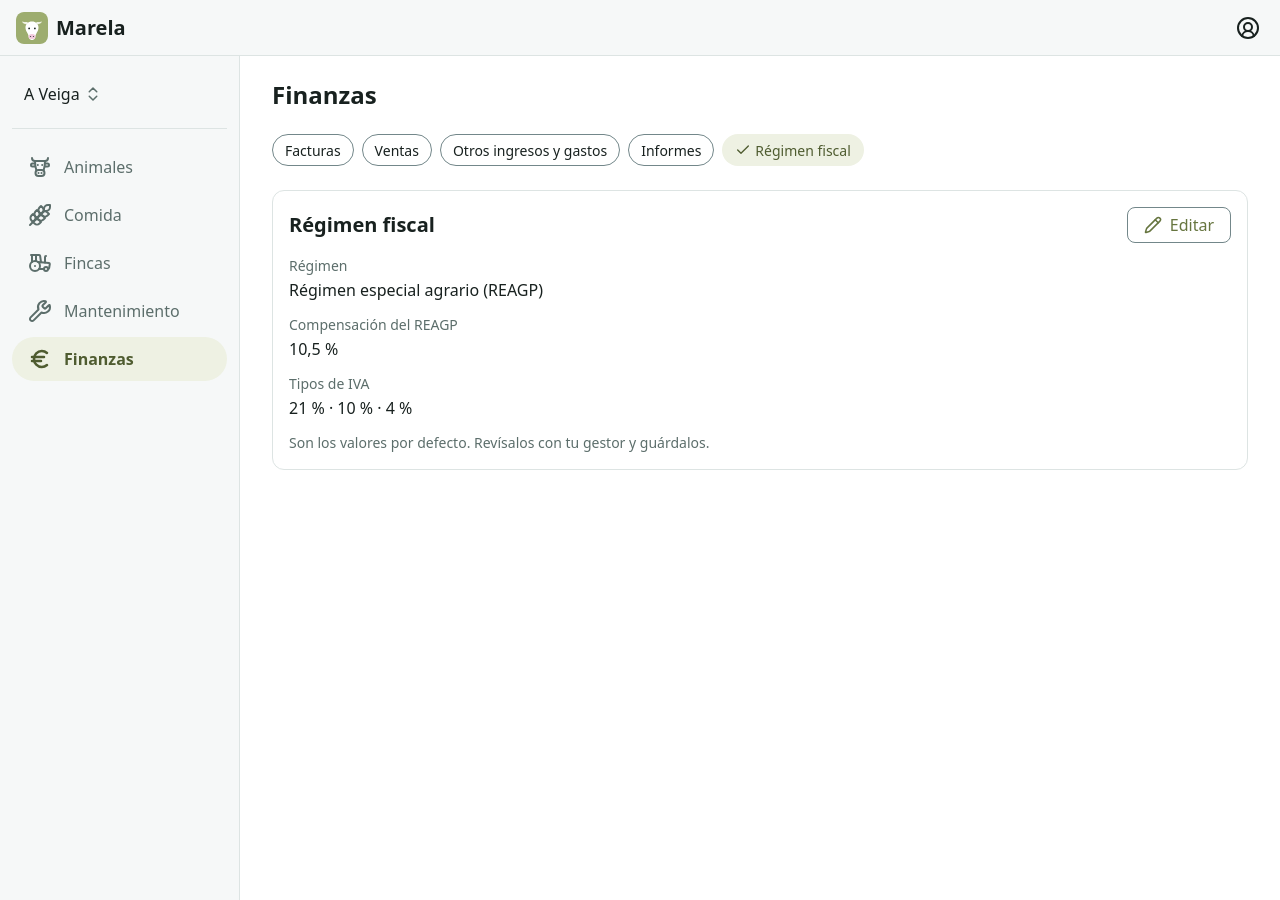
Test case: régimen fiscal (GH-34) › el administrador cambia el régimen, la compensación y los tipos de IVA
The width and height of the screenshot is (1280, 900).
Click the button "Editar": (1179, 225) [1127,207,1231,243]
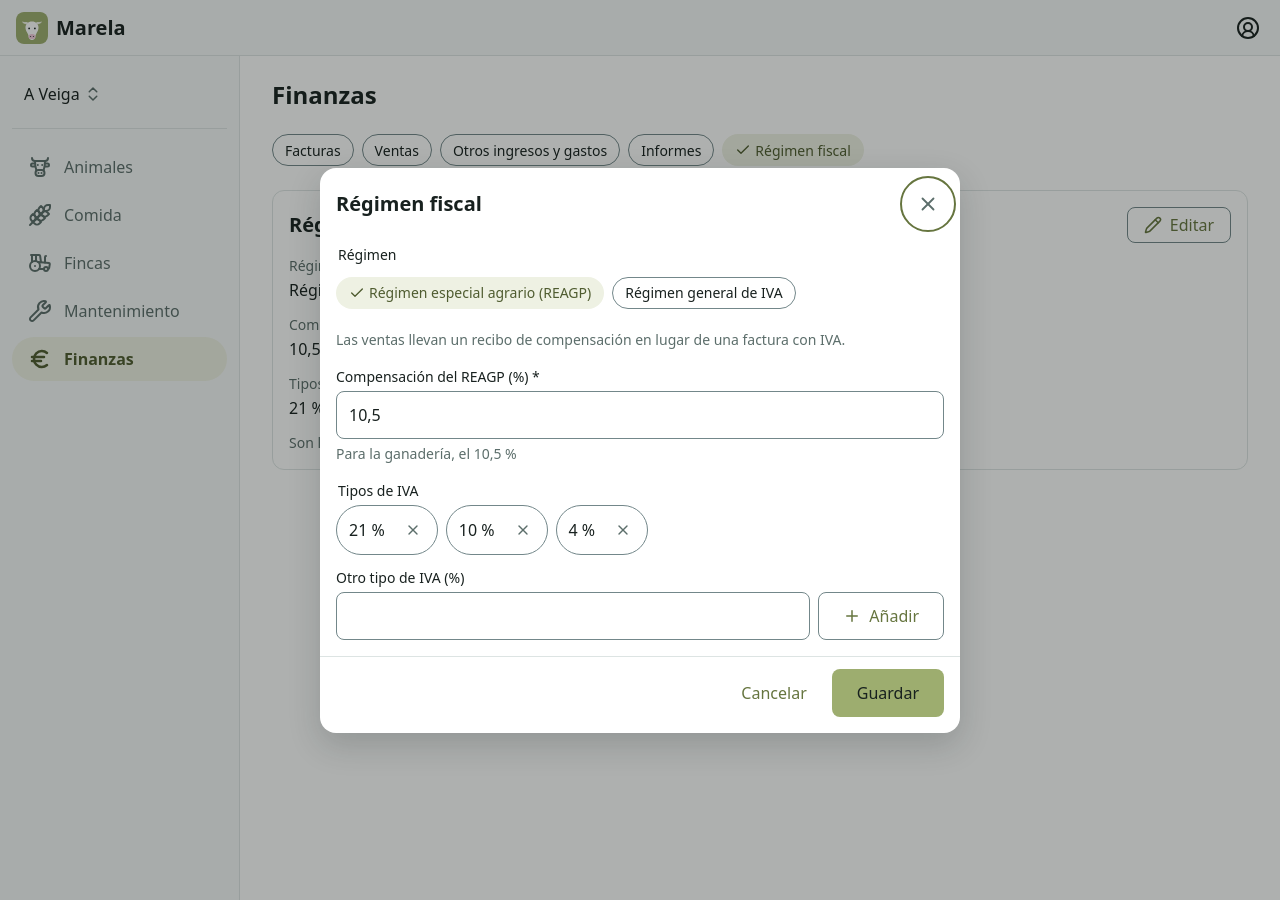
Click the button "Régimen general de IVA": (704, 292) [612,276,796,308]
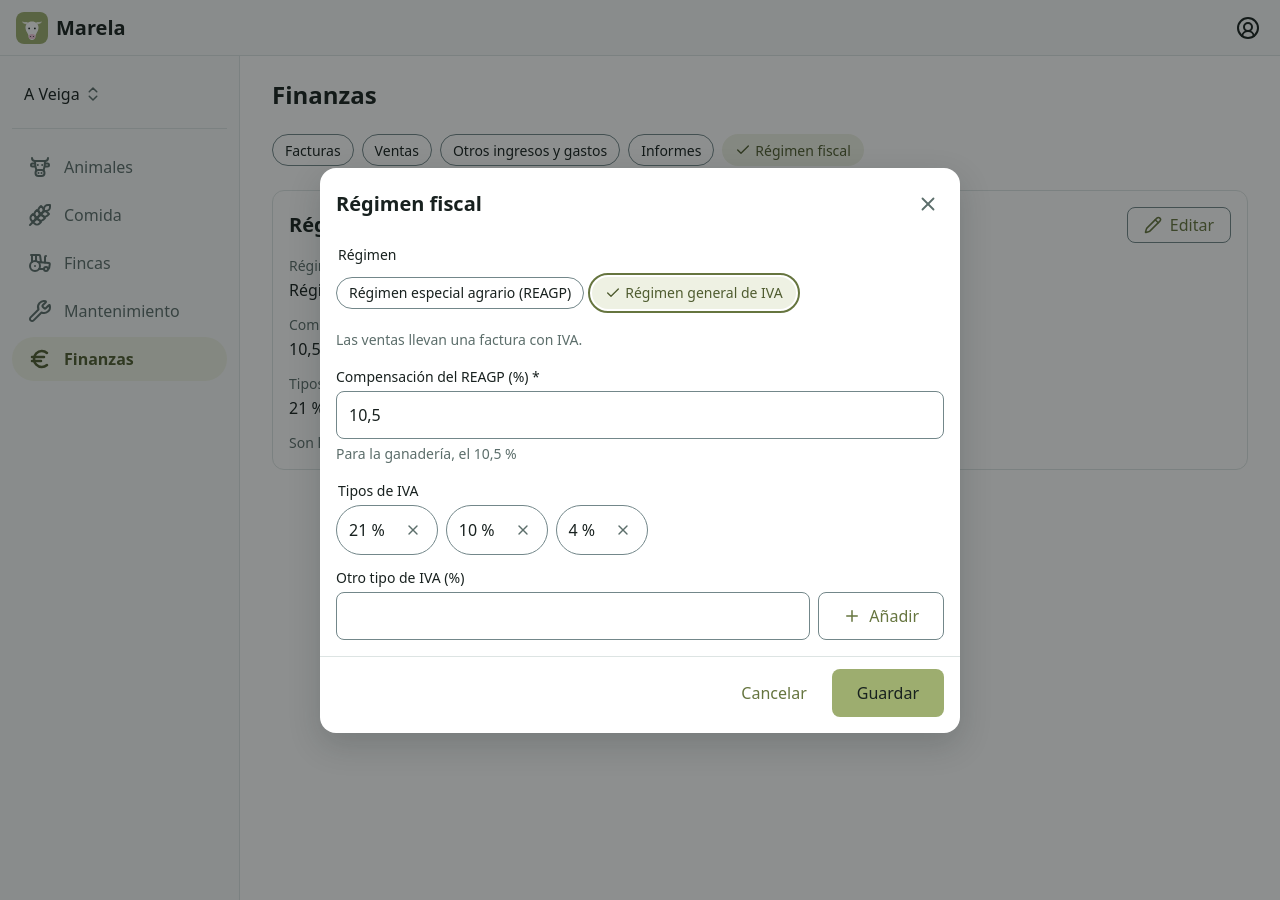
Replace the text in the field labelled "Compensación del REAGP (%) *" with "12": (640, 414) [336,390,944,438]
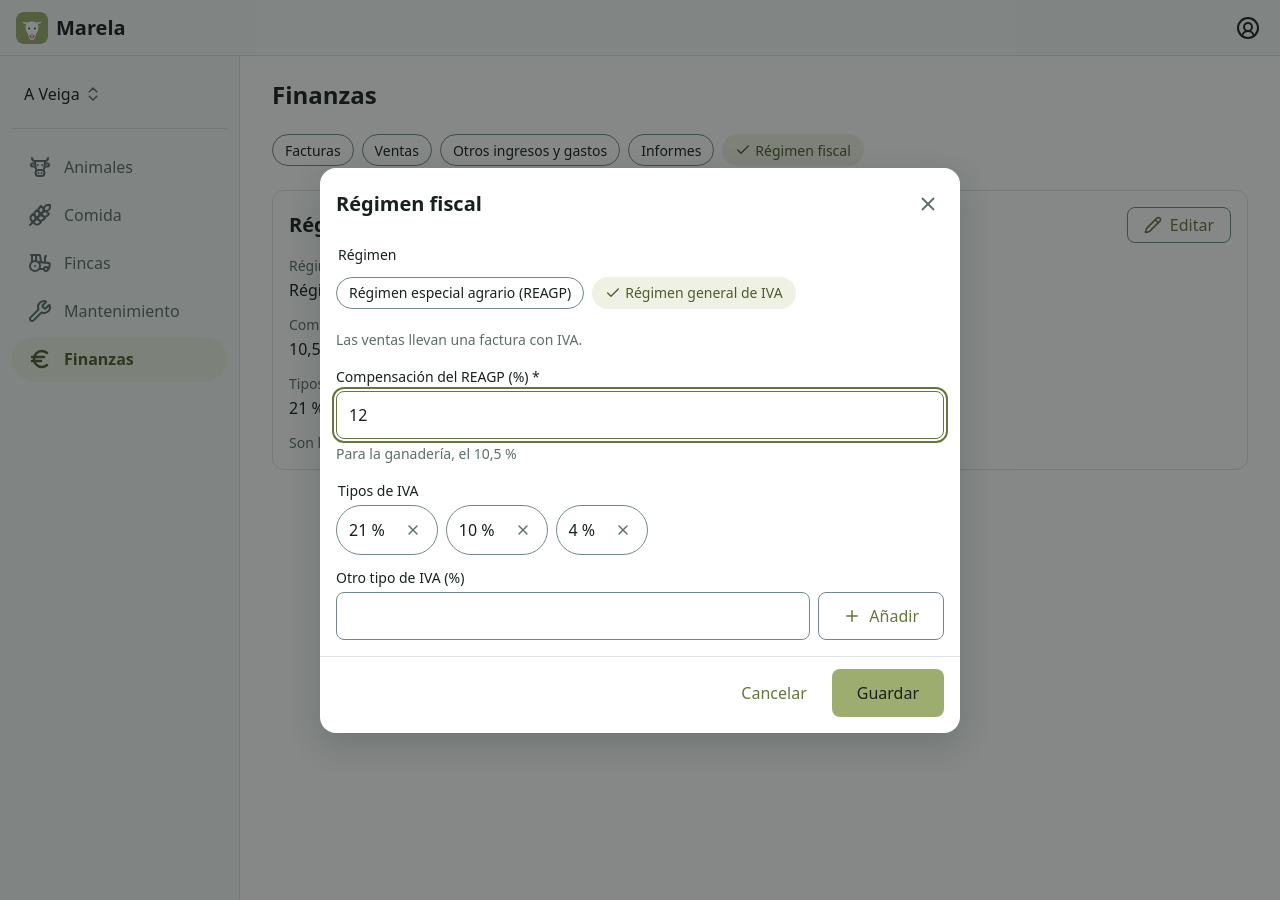
Click the button named "Quitar el 4 %": (623, 530) [599,506,647,554]
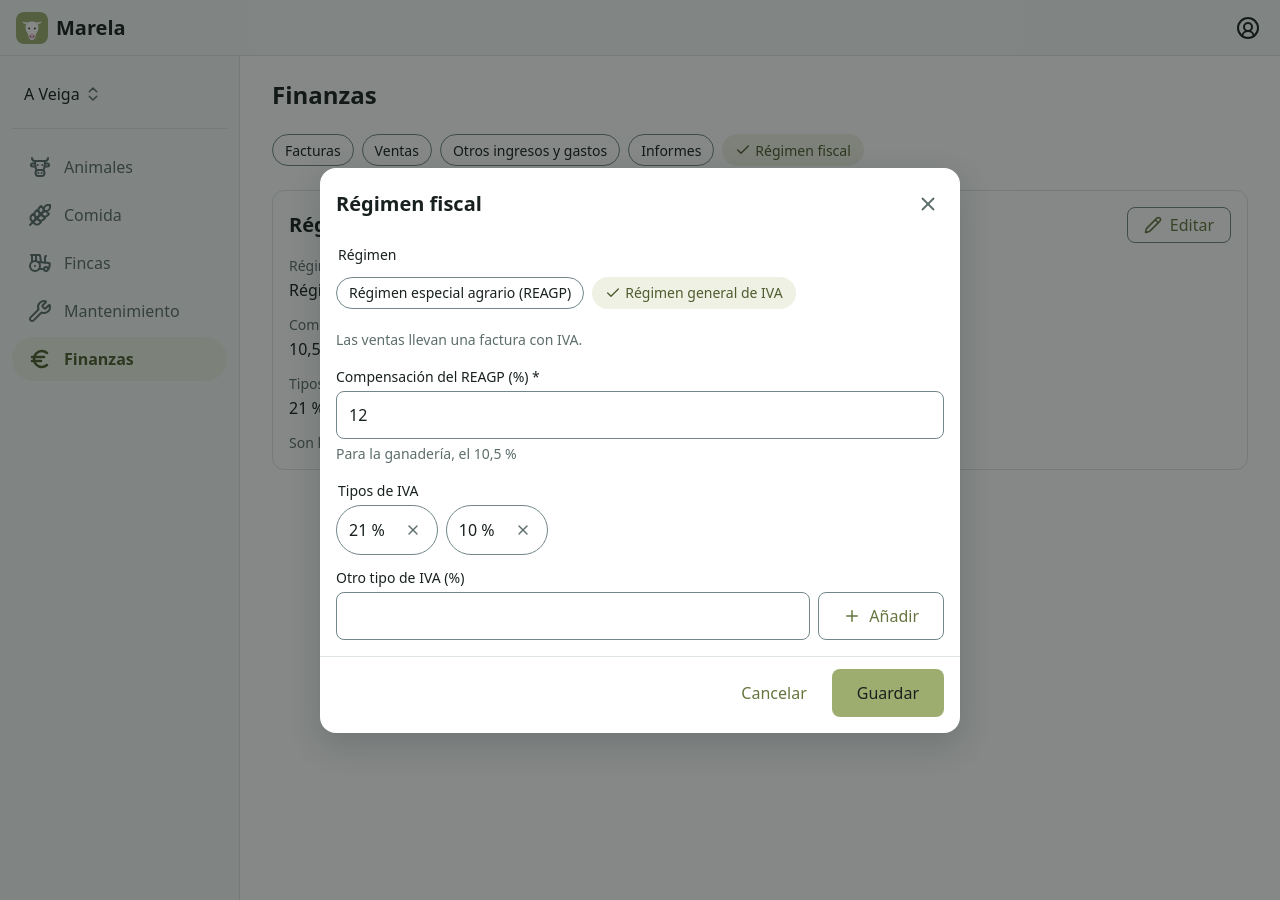
In the field labelled "Otro tipo de IVA (%)": (573, 616) [336,592,810,640], type "5,5"
Click the button "Añadir": (881, 616) [818,592,944,640]
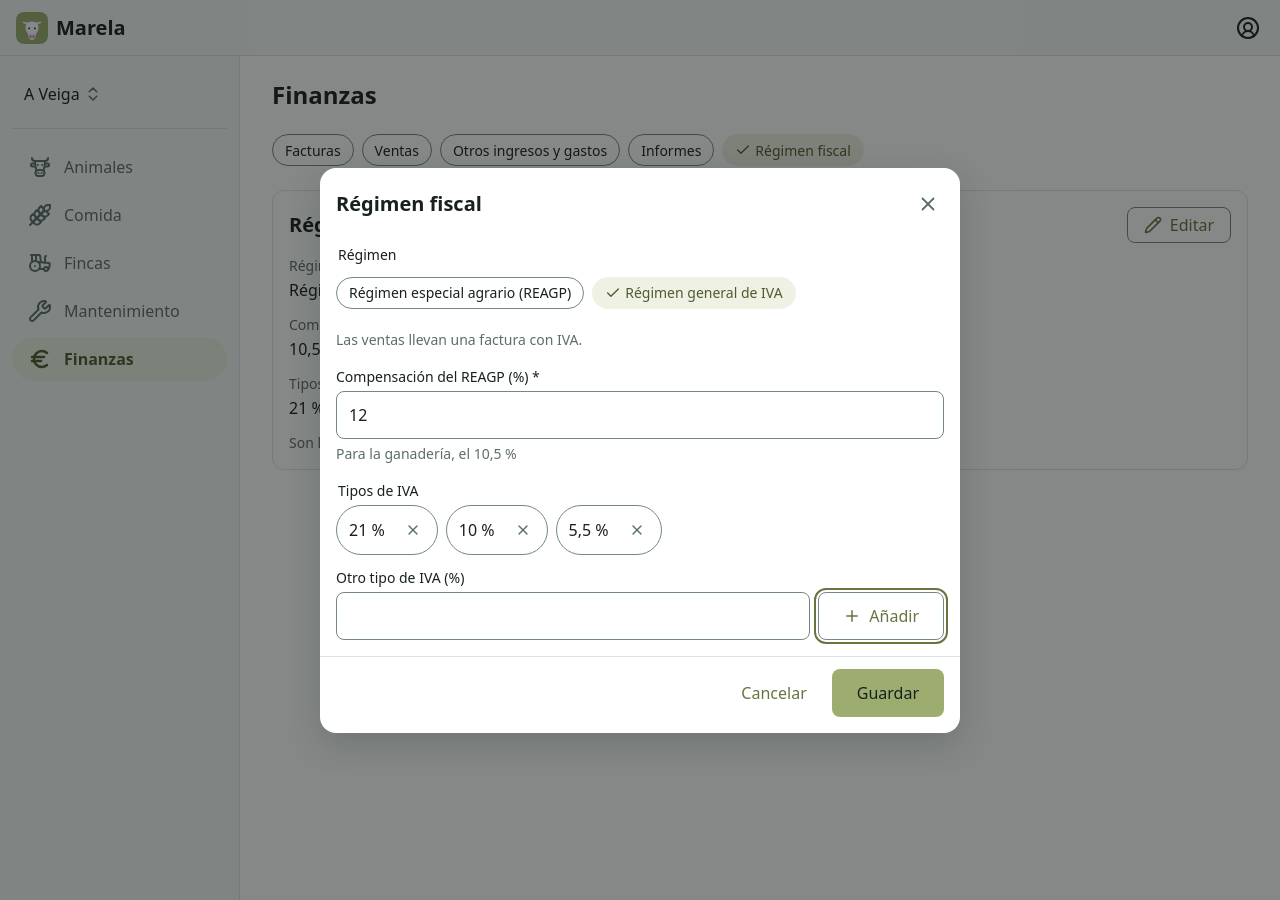
Expected: the list item "5,5 %" is shown, [556,504,662,554]
Click the button "Guardar": (888, 692) [832,668,944,716]
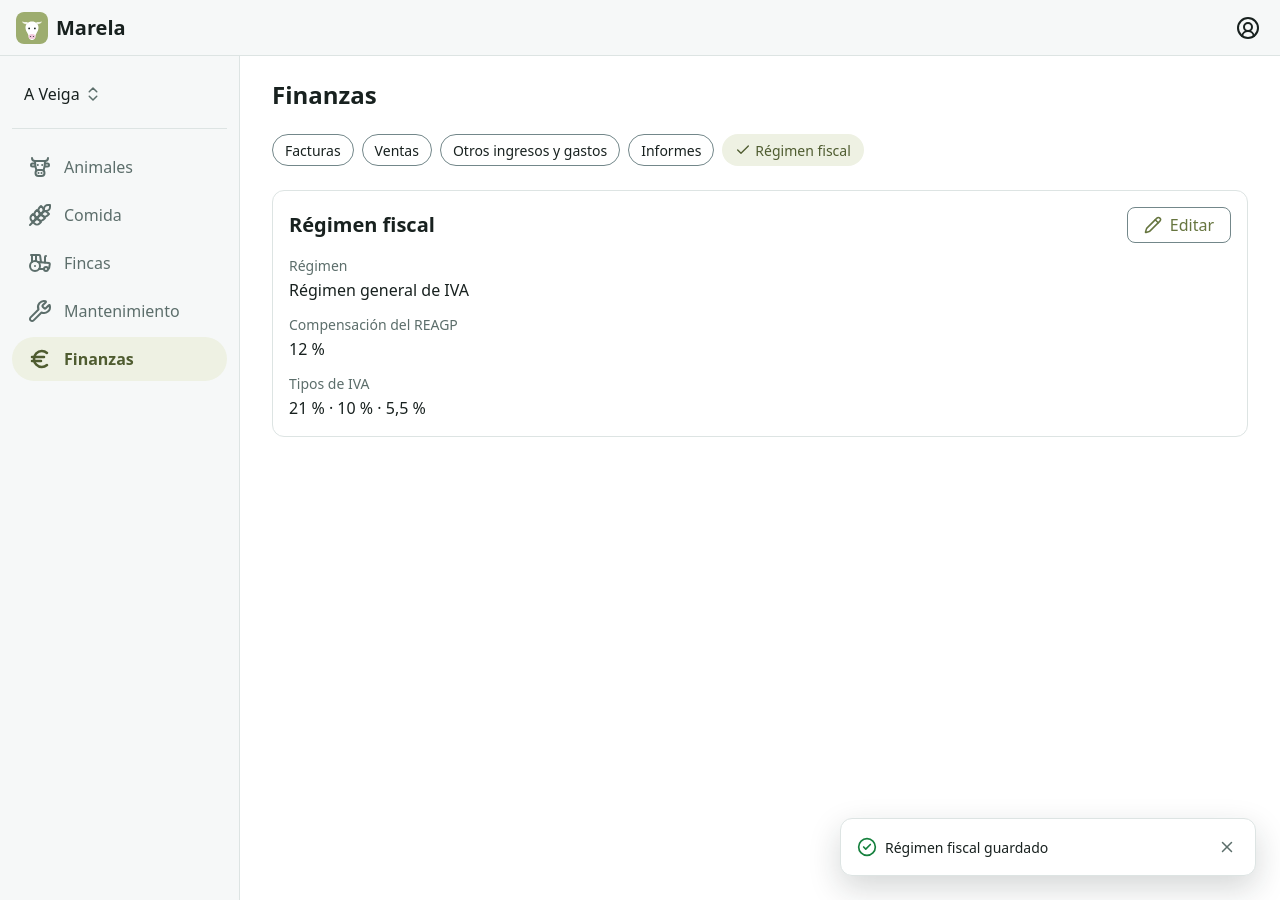
Expected: the text "Régimen fiscal guardado" is shown, [885,838,1048,856]
Expected: the text "Régimen general de IVA" is shown, [289,279,469,301]
Expected: the text "Son los valores por defecto" is gone
